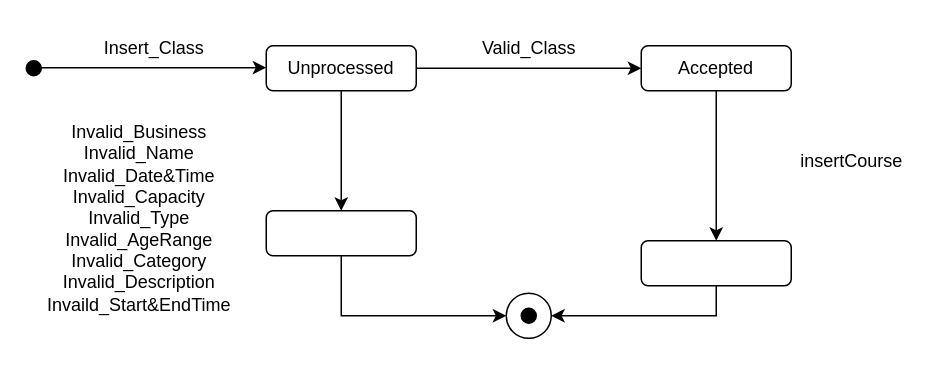
Some shapes in this 945 by 365 pixel diagram are drawn without their labels. The shapes that lost their labels are listed below. From the top down, each one's centre as x and y in pixels, then its label:
At (340,232): "Rejected".
At (715,262): "Class_Inserted".
